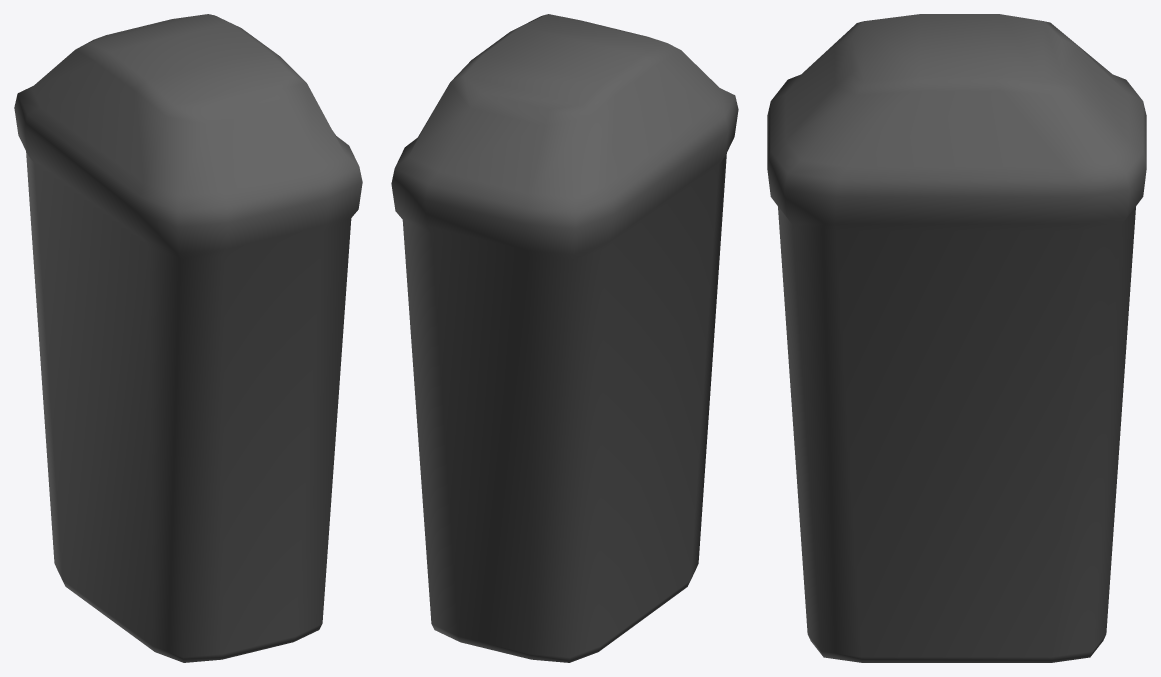
The model's file is frl_apartment_bin_01.glb.
The picture shows the model from 3 angles, left to right: view 1: azimuth 30°, elevation 25°; view 2: azimuth 150°, elevation 25°; view 3: azimuth 270°, elevation 25°; orthographic projection. The views are drawn at different scales.
Parts seen in each view (by area): view 1: frl_apartment_bin_01; view 2: frl_apartment_bin_01; view 3: frl_apartment_bin_01.
Part boxes in pixels (x1,y1,x2,y2): frl_apartment_bin_01: [14, 14, 362, 662]; frl_apartment_bin_01: [391, 14, 738, 662]; frl_apartment_bin_01: [767, 14, 1146, 662].
Size of the model in its own units: 0.2425 by 0.5979 by 0.3543.
1 material, 1 textured.
